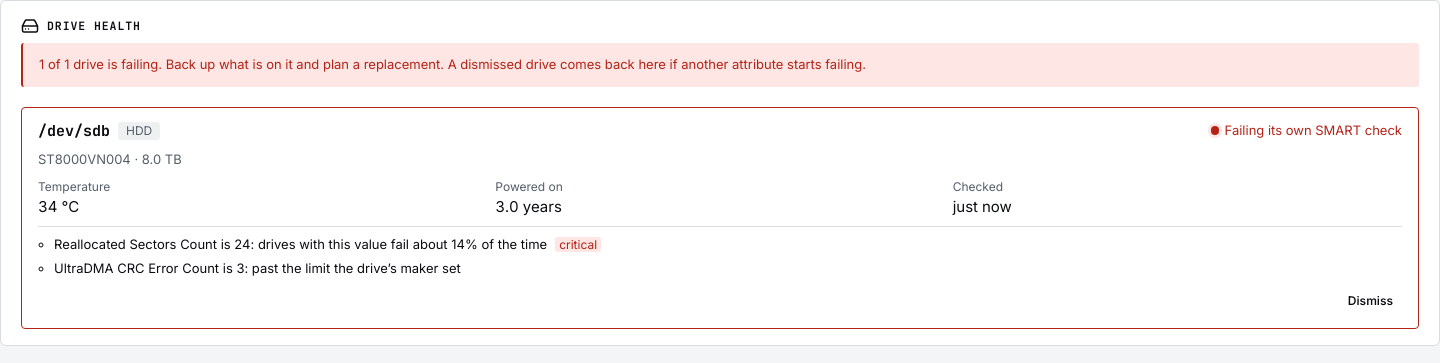
Test case: DrivesCard › dismisses a failing drive on the server and offers to show it again
Step 1. Click the button "Dismiss" → (1370, 301), box left=1339, top=286, right=1402, bottom=316
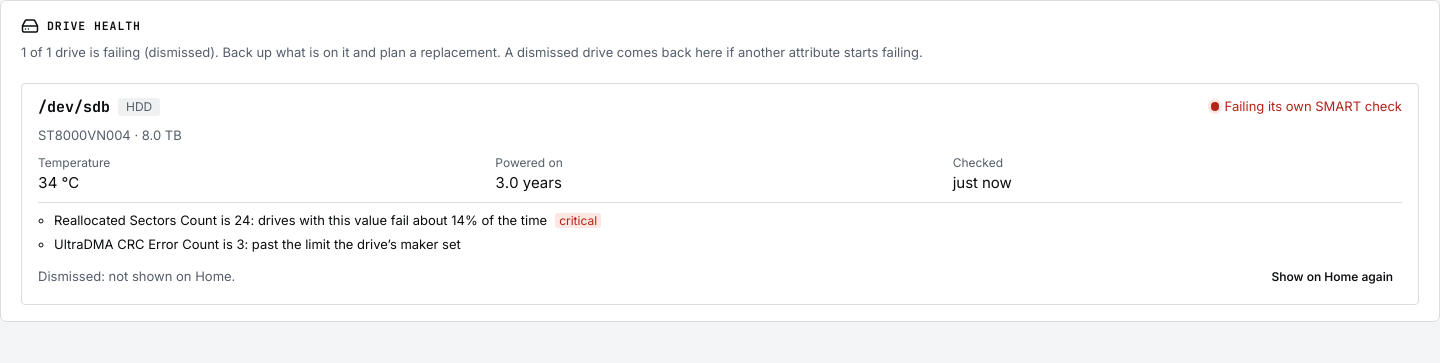
Expected: the button "Show on Home again" is shown, left=1262, top=262, right=1402, bottom=292
Expected: the element "Drive health" shows "1 of 1 drive is failing (dismissed)", left=21, top=44, right=923, bottom=60
